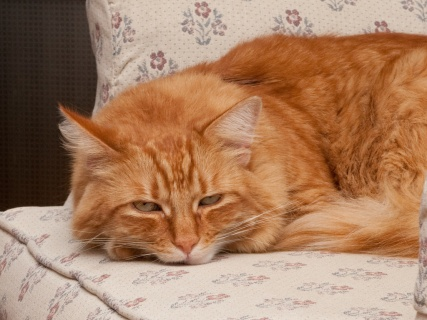Cat: (51, 30, 426, 264)
